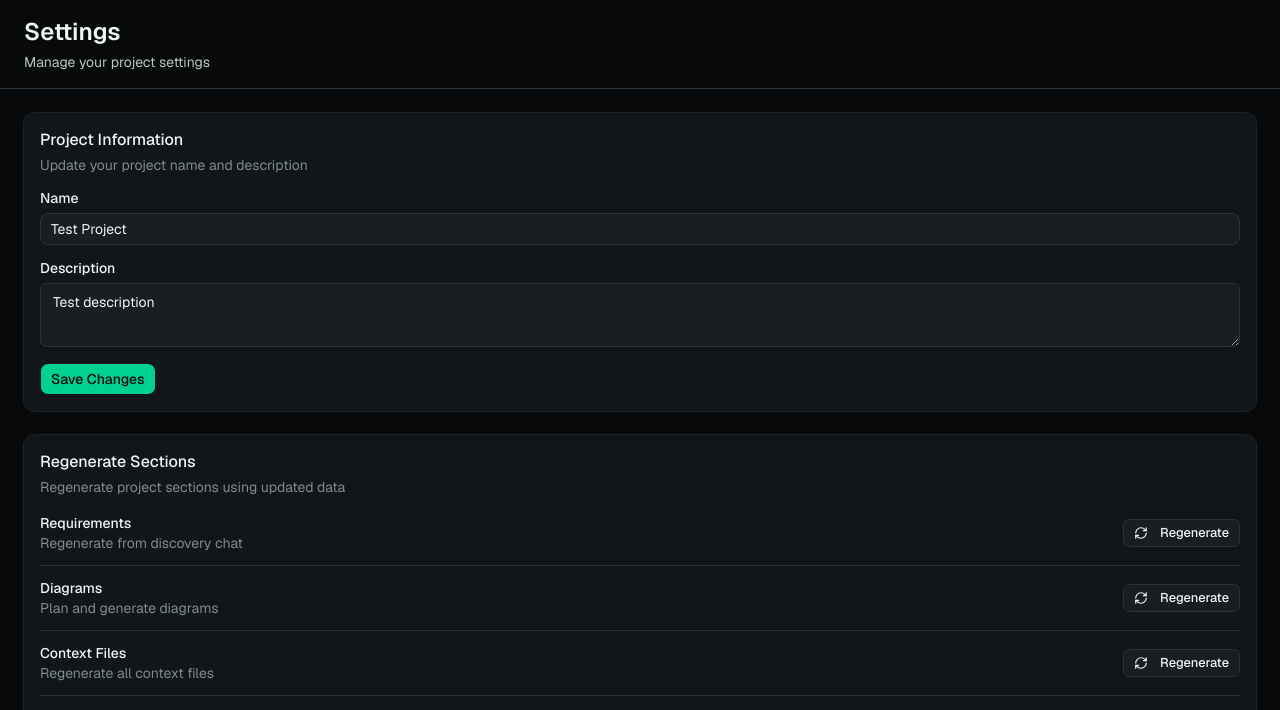
ProjectSettings › shows error on save failure
The width and height of the screenshot is (1280, 710).
Click the button "Save Changes".
click(98, 379)  # box [40,363,156,395]
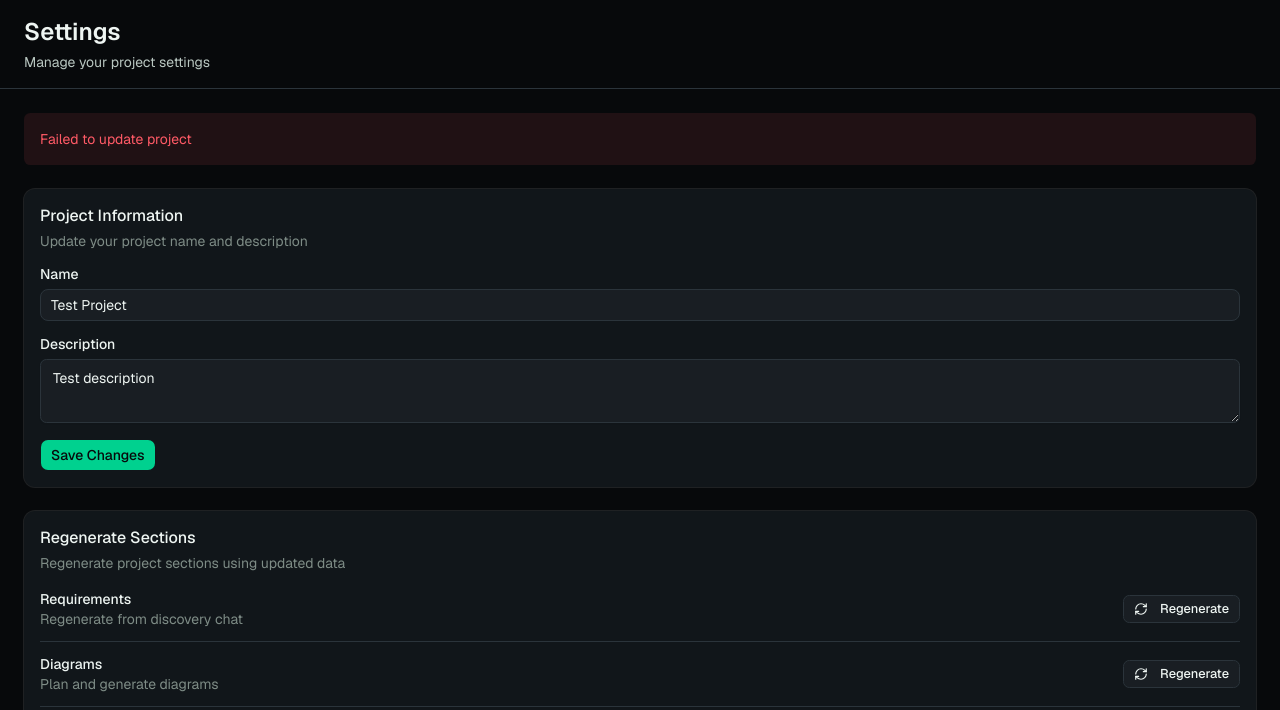
Result: the text "Failed to update project" is shown at [24,113,1256,165]
